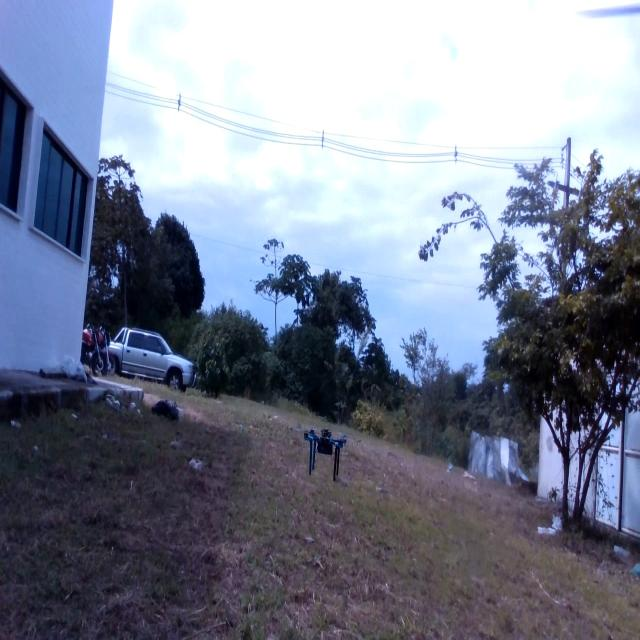-uav-: (297, 416, 354, 491)
